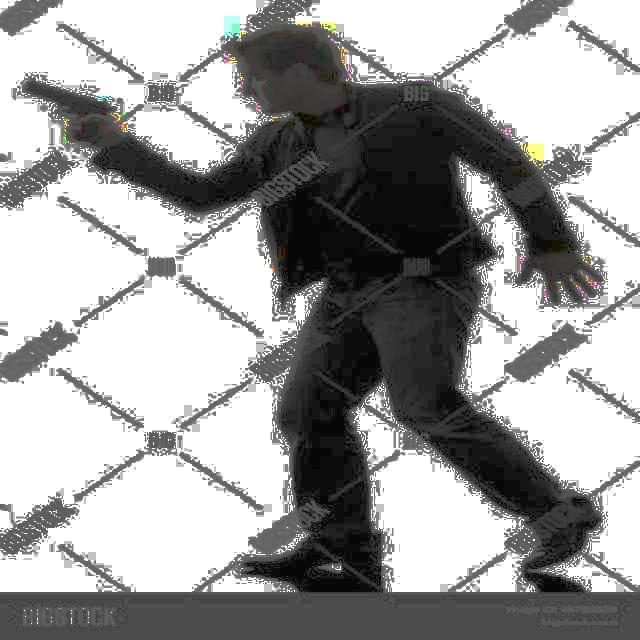Gun: (17, 62, 116, 158)
